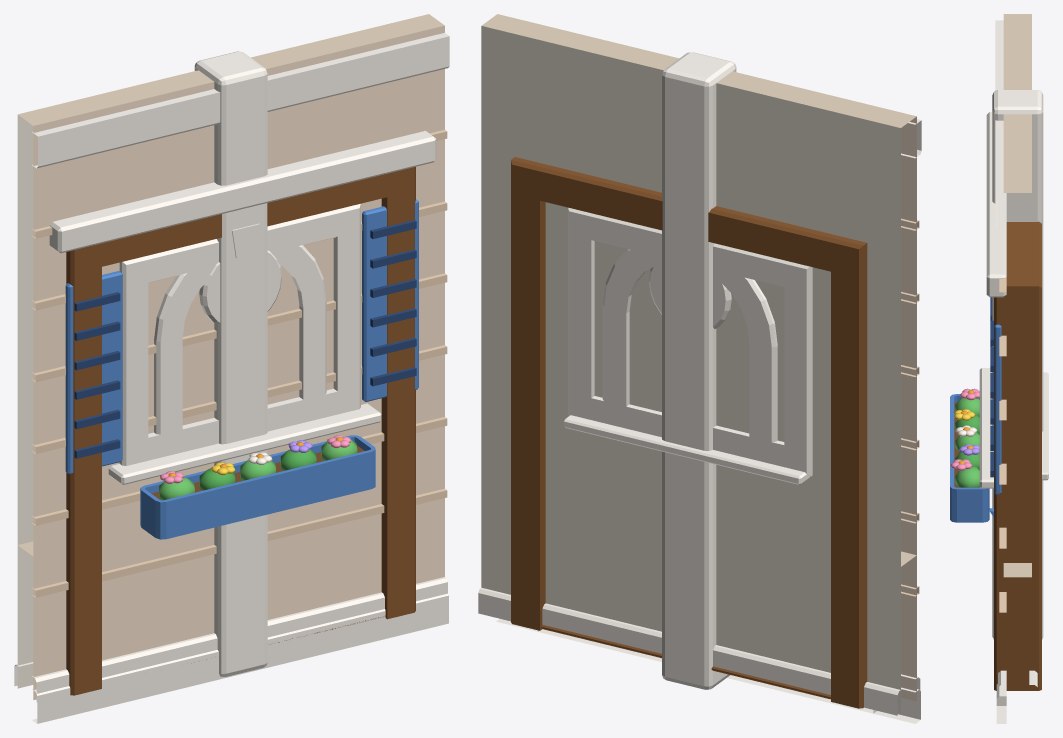
File: casa-paredes-andar.glb
The picture shows the model from 3 angles, left to right: view 1: azimuth 30°, elevation 25°; view 2: azimuth 150°, elevation 25°; view 3: azimuth 270°, elevation 25°; orthographic projection. The views are drawn at different scales.
Parts seen in each view (by area): view 1: parede-janela-grande-lambri-andar, parede-janela-arco-lambri-andar, parede-porta-lambri-andar, quina-lambri-andar, parede-janela-redonda-lambri-andar, quina-lambri-baixa-andar, parede-janela-arco-lisa-andar, parede-lambri-andar, parede-janela-grande-lisa-andar, parede-porta-lambri-baixa-andar, parede-janela-redonda-lisa-andar, parede-porta-lisa-andar; view 2: parede-janela-grande-lambri-andar, parede-janela-arco-lambri-andar, parede-porta-lambri-andar, quina-lambri-andar, parede-janela-redonda-lambri-andar, quina-lambri-baixa-andar, parede-porta-lambri-baixa-andar, parede-lambri-andar; view 3: parede-porta-lambri-andar, parede-janela-grande-lambri-andar, quina-lambri-andar, parede-porta-lambri-baixa-andar, parede-janela-arco-lambri-andar, quina-lambri-baixa-andar.
Part boxes in pixels (x1,y1,x2,y2): parede-janela-grande-lambri-andar: [14, 14, 449, 723]; parede-janela-arco-lambri-andar: [87, 31, 380, 698]; parede-porta-lambri-andar: [14, 14, 448, 723]; quina-lambri-andar: [194, 51, 267, 673]; parede-janela-redonda-lambri-andar: [156, 48, 311, 690]; quina-lambri-baixa-andar: [214, 514, 267, 676]; parede-janela-arco-lisa-andar: [102, 593, 379, 676]; parede-lambri-andar: [171, 277, 299, 425]; parede-janela-grande-lisa-andar: [32, 577, 447, 702]; parede-porta-lambri-baixa-andar: [18, 466, 415, 695]; parede-janela-redonda-lisa-andar: [173, 614, 310, 659]; parede-porta-lisa-andar: [32, 577, 447, 701]; parede-janela-grande-lambri-andar: [478, 14, 921, 723]; parede-janela-arco-lambri-andar: [548, 31, 846, 694]; parede-porta-lambri-andar: [478, 14, 920, 723]; quina-lambri-andar: [662, 52, 736, 687]; parede-janela-redonda-lambri-andar: [618, 48, 778, 689]; quina-lambri-baixa-andar: [662, 514, 729, 689]; parede-porta-lambri-baixa-andar: [511, 473, 916, 707]; parede-lambri-andar: [622, 250, 760, 430]; parede-porta-lambri-andar: [986, 14, 1041, 723]; parede-janela-grande-lambri-andar: [950, 14, 1048, 723]; quina-lambri-andar: [992, 90, 1043, 637]; parede-porta-lambri-baixa-andar: [994, 560, 1041, 690]; parede-janela-arco-lambri-andar: [979, 44, 1048, 457]; quina-lambri-baixa-andar: [992, 496, 1043, 639].
Size of the model in its own units: 3 by 4.19 by 0.7.
